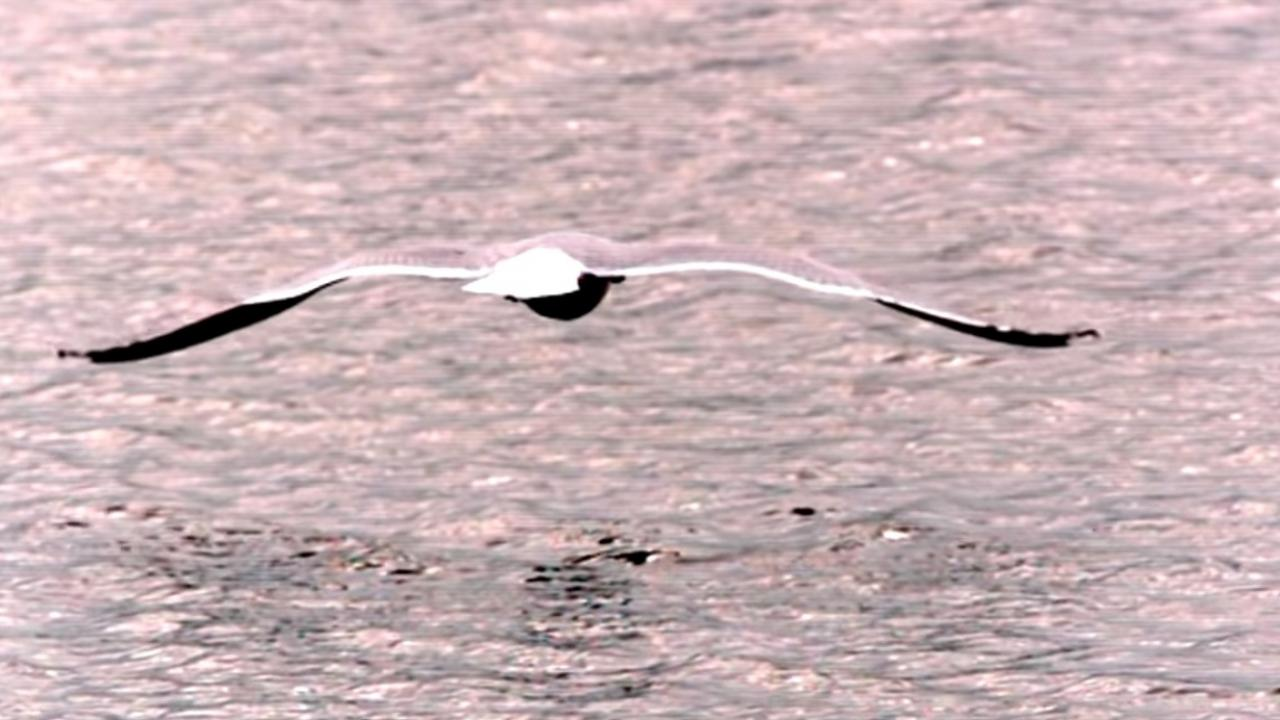Bird: (47, 221, 1114, 373)
